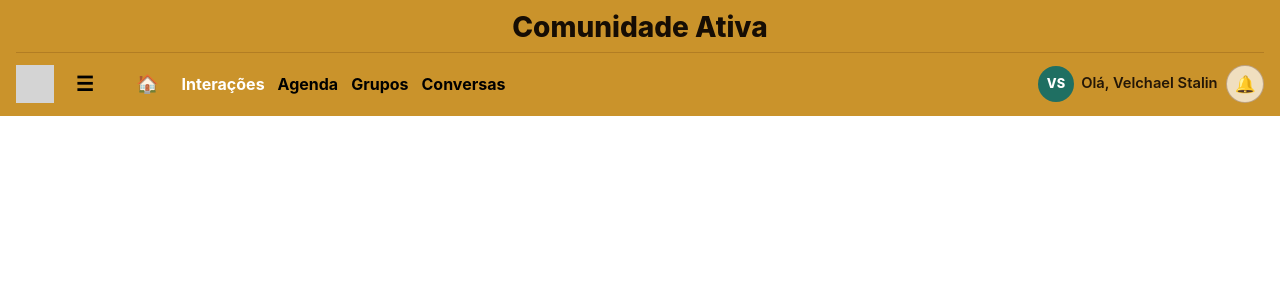
Scenario: campana renderiza agenda_task_deleted
Click the button named "Abrir notificações" at [1245, 84], box [1226,65,1264,103]
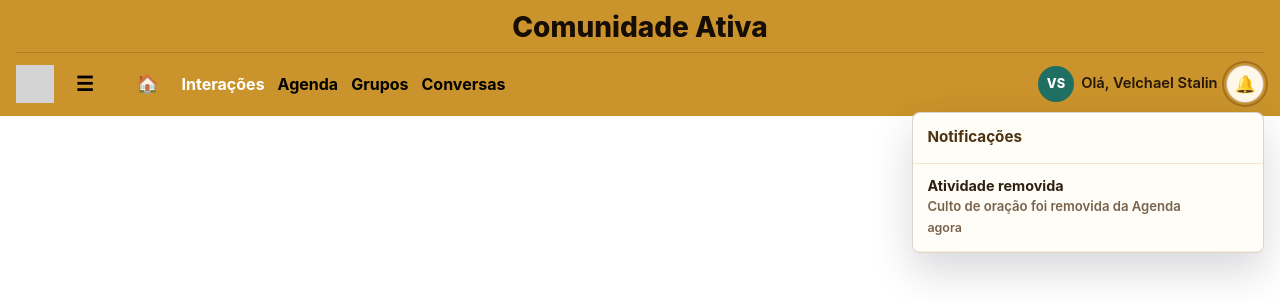
Check: the text "Atividade removida" is shown, box [927,177,1064,194]
Check: the text "Culto de oração foi removida da Agenda" is shown, box [927,198,1181,214]
